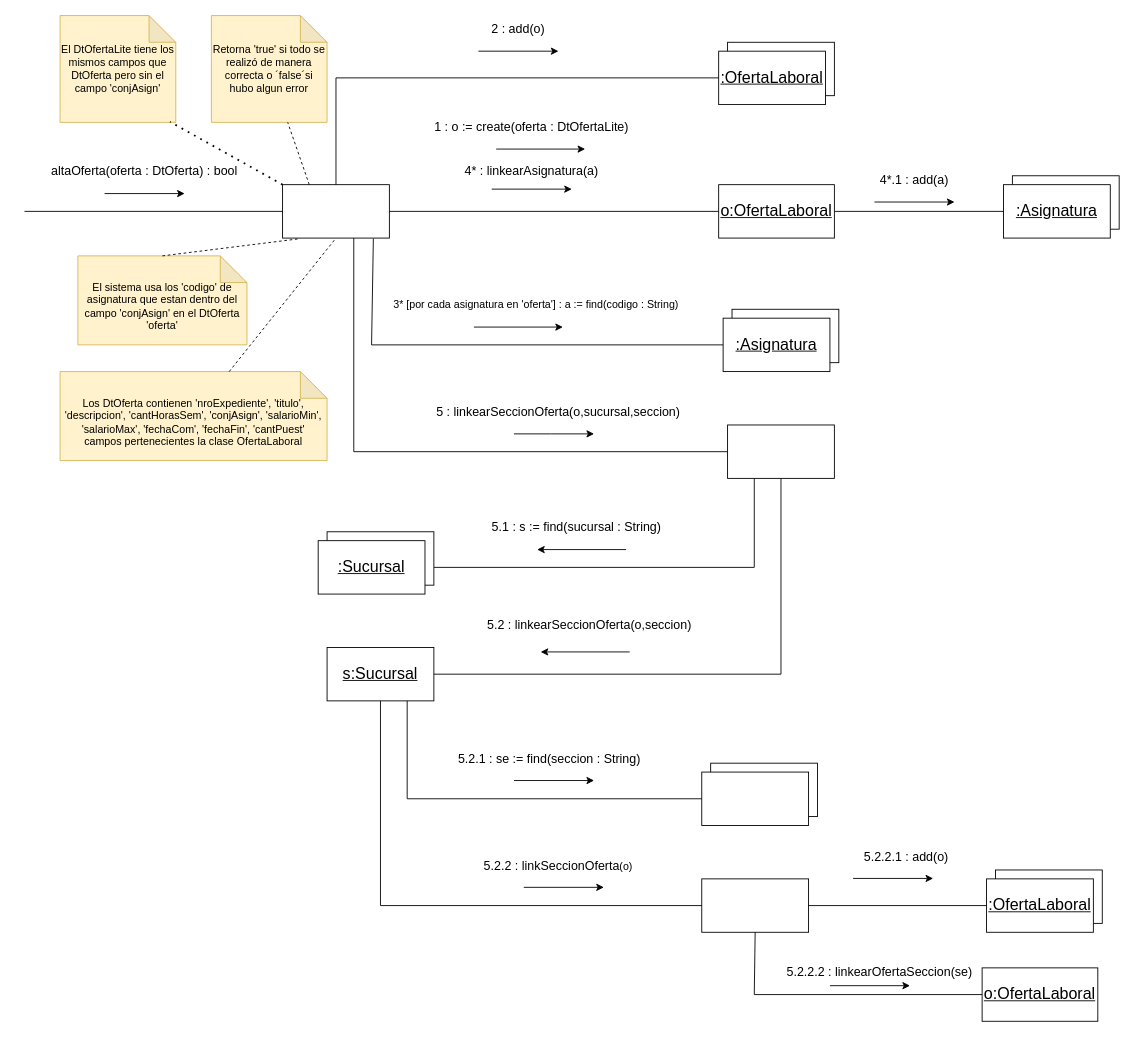
The diagram is 1135 pixels wide and 1037 high, and some of its shapes have lost their labels. Here are the shapes that lost their labels. From the top down, the box of each, then its label:
(282, 184, 389, 238): :Sistema
(727, 424, 834, 478): e:Empresa
(701, 771, 809, 825): :Seccion
(701, 878, 809, 932): se:Seccion
